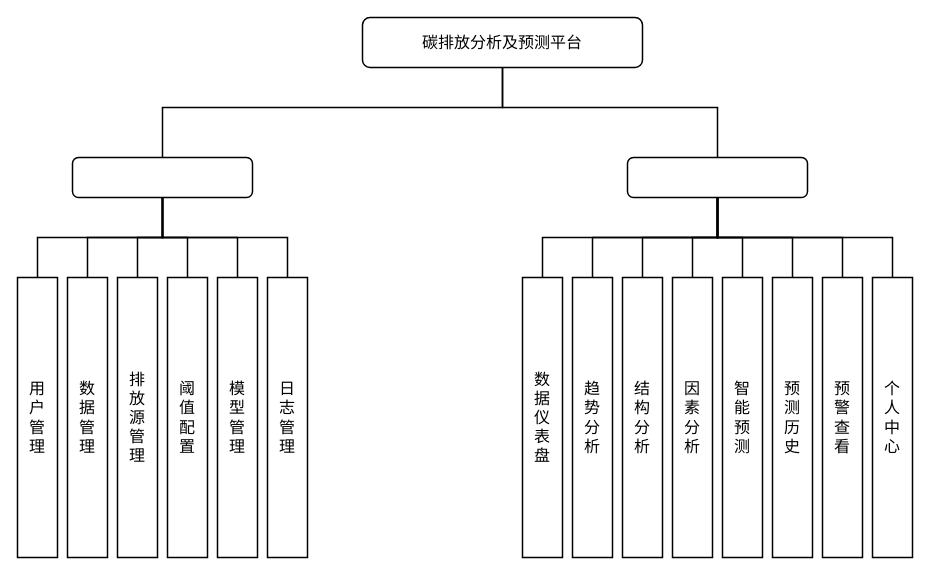
This 931x576 diagram has some shape labels left out. The centre of each missing label's shape, as x and y in pixels:
"普通用户" goes at pixel 717 177.
"管理员" goes at pixel 162 177.
